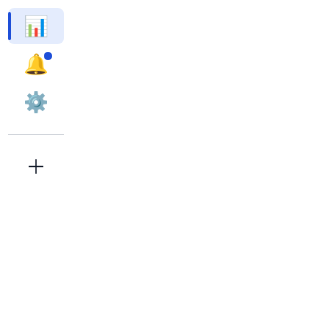
Test: TxSideNav — 접기(rail) › 접힌 채로 하위메뉴를 누르면 줄이 먼저 펴진다
What coordinates should you click on to do the following:
click the button named "설정"
I would click on:
 (36, 102)
Its box is [8,84,64,120].
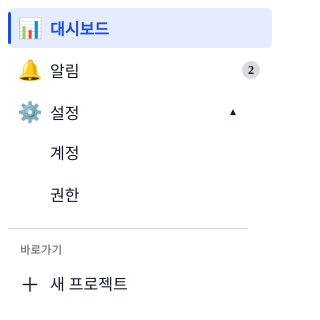
Check: the element showing "📊 대시보드 🔔 알림 2 ⚙️ 설정 ▾ 계정 권한 바로가기 ＋ 새 프로젝트" does not have attribute data-collapsed
Check: the link "계정" is shown, box [50,145,80,162]
